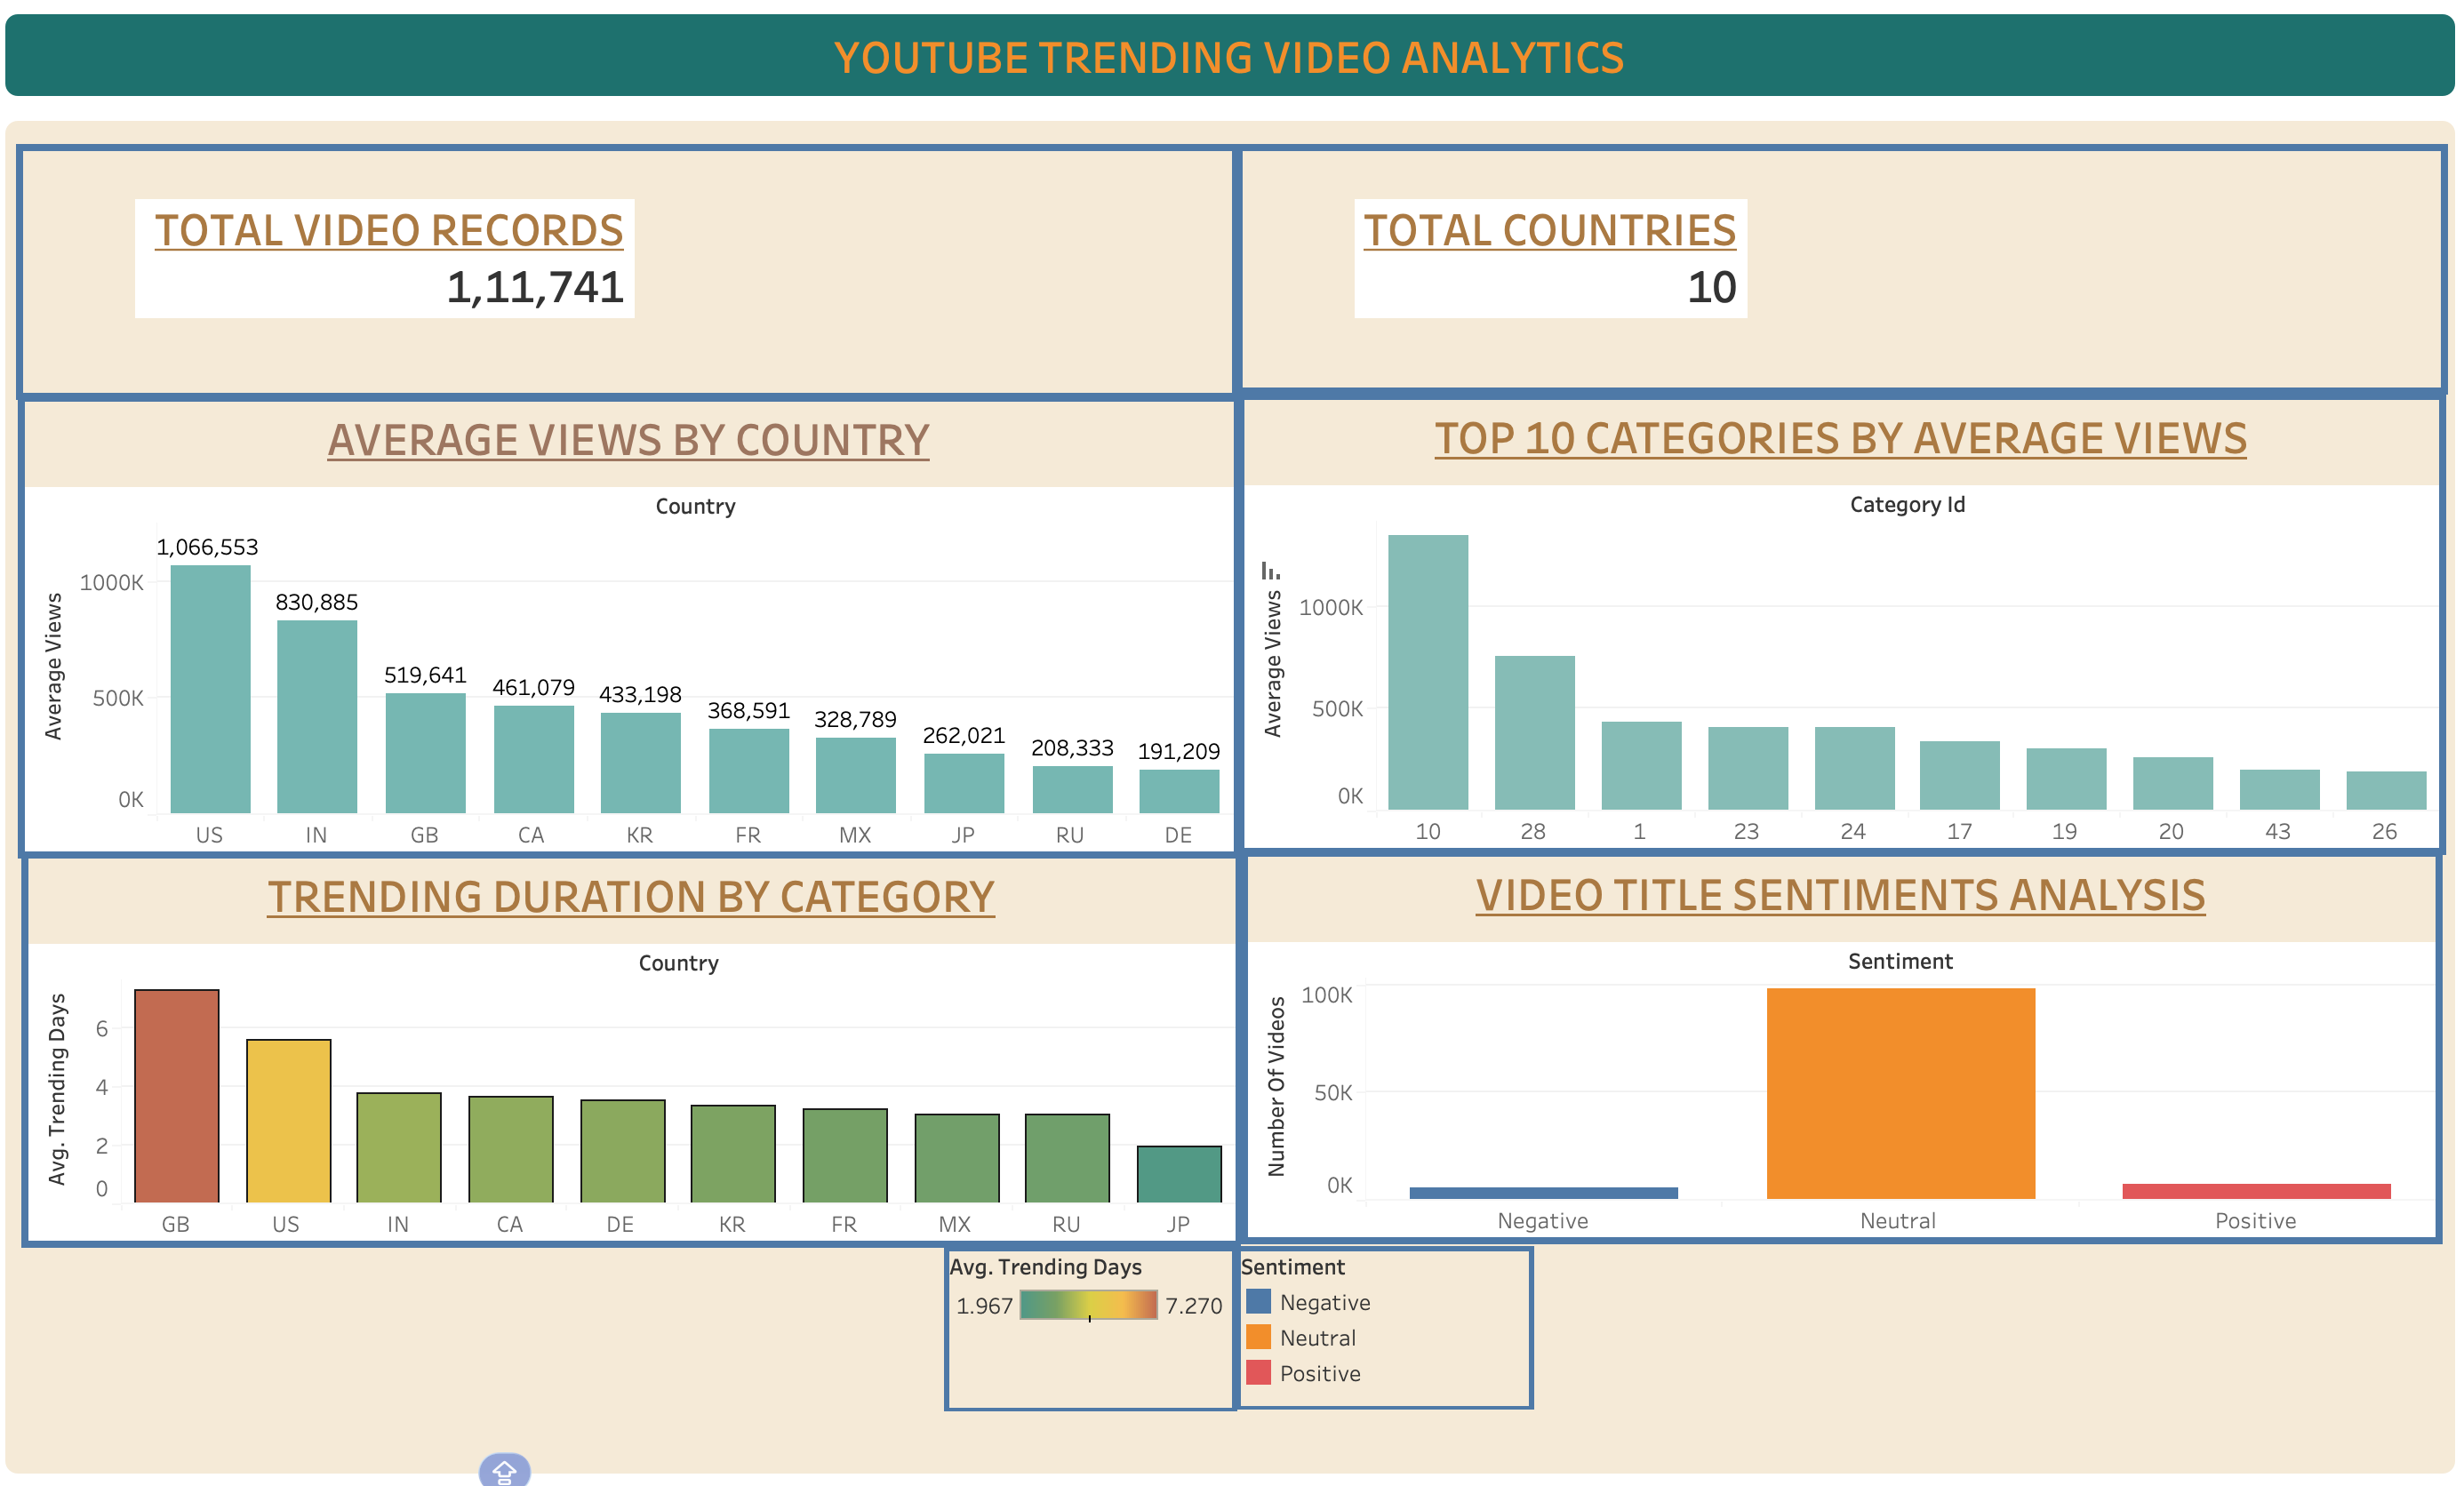

This screenshot's page, from the dashboard's own definition file:
{"tool":"tableau","page":{"name":"Dashboard 1","canvas":[1000,1000],"units":"permille","ordinal":0},"visuals":[{"type":"title","box":[6.7,10.1,986.6,76]},{"type":"worksheet","title":"Sheet 5","mark":"Automatic","box":[14.2,102.7,490.4,171.1]},{"type":"worksheet","title":"Sheet 6","mark":"Automatic","box":[502.1,103.9,484.5,166]},{"type":"worksheet","title":"TOP 10","mark":"Bar","rows":["average_views"],"cols":["category_id"],"box":[502.9,267.4,482.9,305.4]},{"type":"worksheet","title":"AVG VIEW","mark":"Automatic","rows":["average_views"],"cols":["country"],"box":[15.9,268.7,488.7,306.7]},{"type":"worksheet","title":"SENTIMENTS","mark":"Automatic","rows":["number_of_videos"],"cols":["sentiment"],"box":[504.6,570.3,480.4,261.1]},{"type":"worksheet","title":"TRENDING","mark":"Automatic","rows":["trending_days"],"cols":["country"],"box":[16.7,571.6,487.9,262.4]},{"type":"legend","title":"TRENDING","param":"[federated.1bc0xfu0n3vvbz14aqkfs1b6e0r1].[avg:trending_days:qk]","box":[386,831.4,117,110.3]},{"type":"legend","title":"SENTIMENTS","param":"[federated.1kau8ex18jqv0a0zqolgd0waaunl].[none:sentiment:nk]","box":[502.1,831.4,119.5,109]}]}

Visuals, with their boxes on the dashboard's canvas, which has no fixed pixel size, in thousandths of its width and height (x1, y1, x2, y2). These are canvas units, not pixel positions in the 2464x1486 screenshot, which may show the page scaled, cropped or inside an application window:
title: bbox=[7, 10, 993, 86]
"Sheet 5" worksheet: bbox=[14, 103, 505, 274]
"Sheet 6" worksheet: bbox=[502, 104, 987, 270]
"TOP 10" worksheet (Bar marks): bbox=[503, 267, 986, 573]
"AVG VIEW" worksheet: bbox=[16, 269, 505, 575]
"SENTIMENTS" worksheet: bbox=[505, 570, 985, 831]
"TRENDING" worksheet: bbox=[17, 572, 505, 834]
"TRENDING" legend: bbox=[386, 831, 503, 942]
"SENTIMENTS" legend: bbox=[502, 831, 622, 940]
